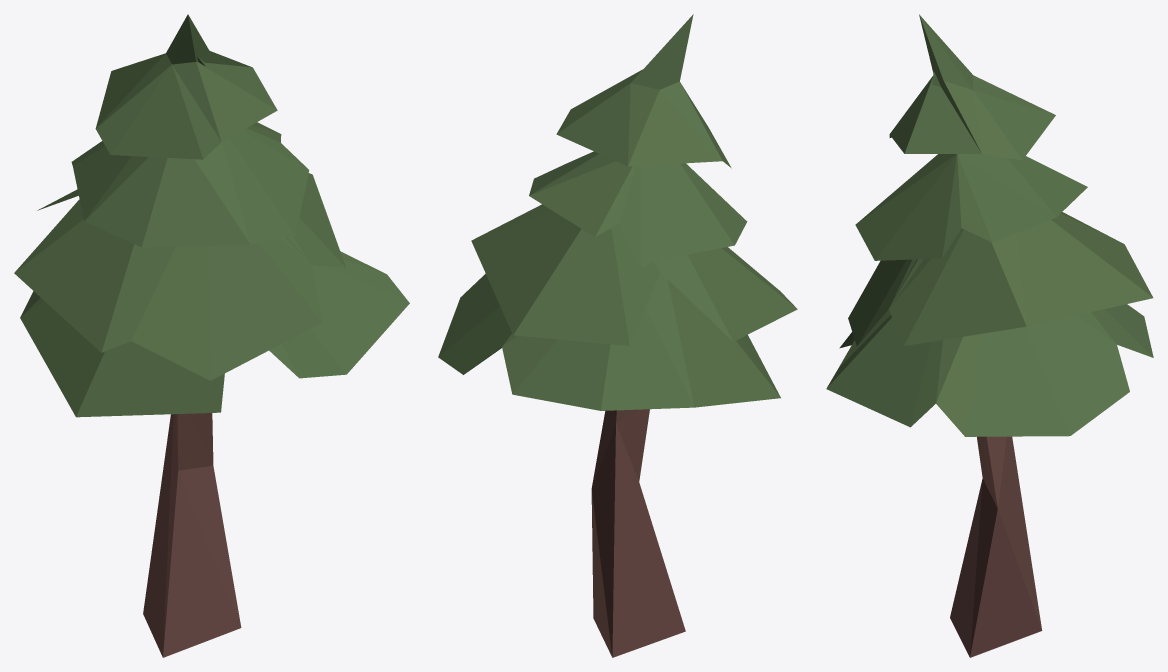
File: PineTree_5.lod3.glb
3 renders of one model, left to right at view 1: azimuth 30°, elevation 25°; view 2: azimuth 150°, elevation 25°; view 3: azimuth 270°, elevation 25°, orthographic. The views are drawn at different scales.
Visible parts, largest first — view 1: PineTree_5; view 2: PineTree_5; view 3: PineTree_5.
Boxes of the visible parts, left/top/right/bottom form: PineTree_5: left=14, top=14, right=409, bottom=657; PineTree_5: left=438, top=14, right=797, bottom=657; PineTree_5: left=826, top=14, right=1153, bottom=657.
Size of the model in its own units: 1.45 by 2.7 by 1.32.
